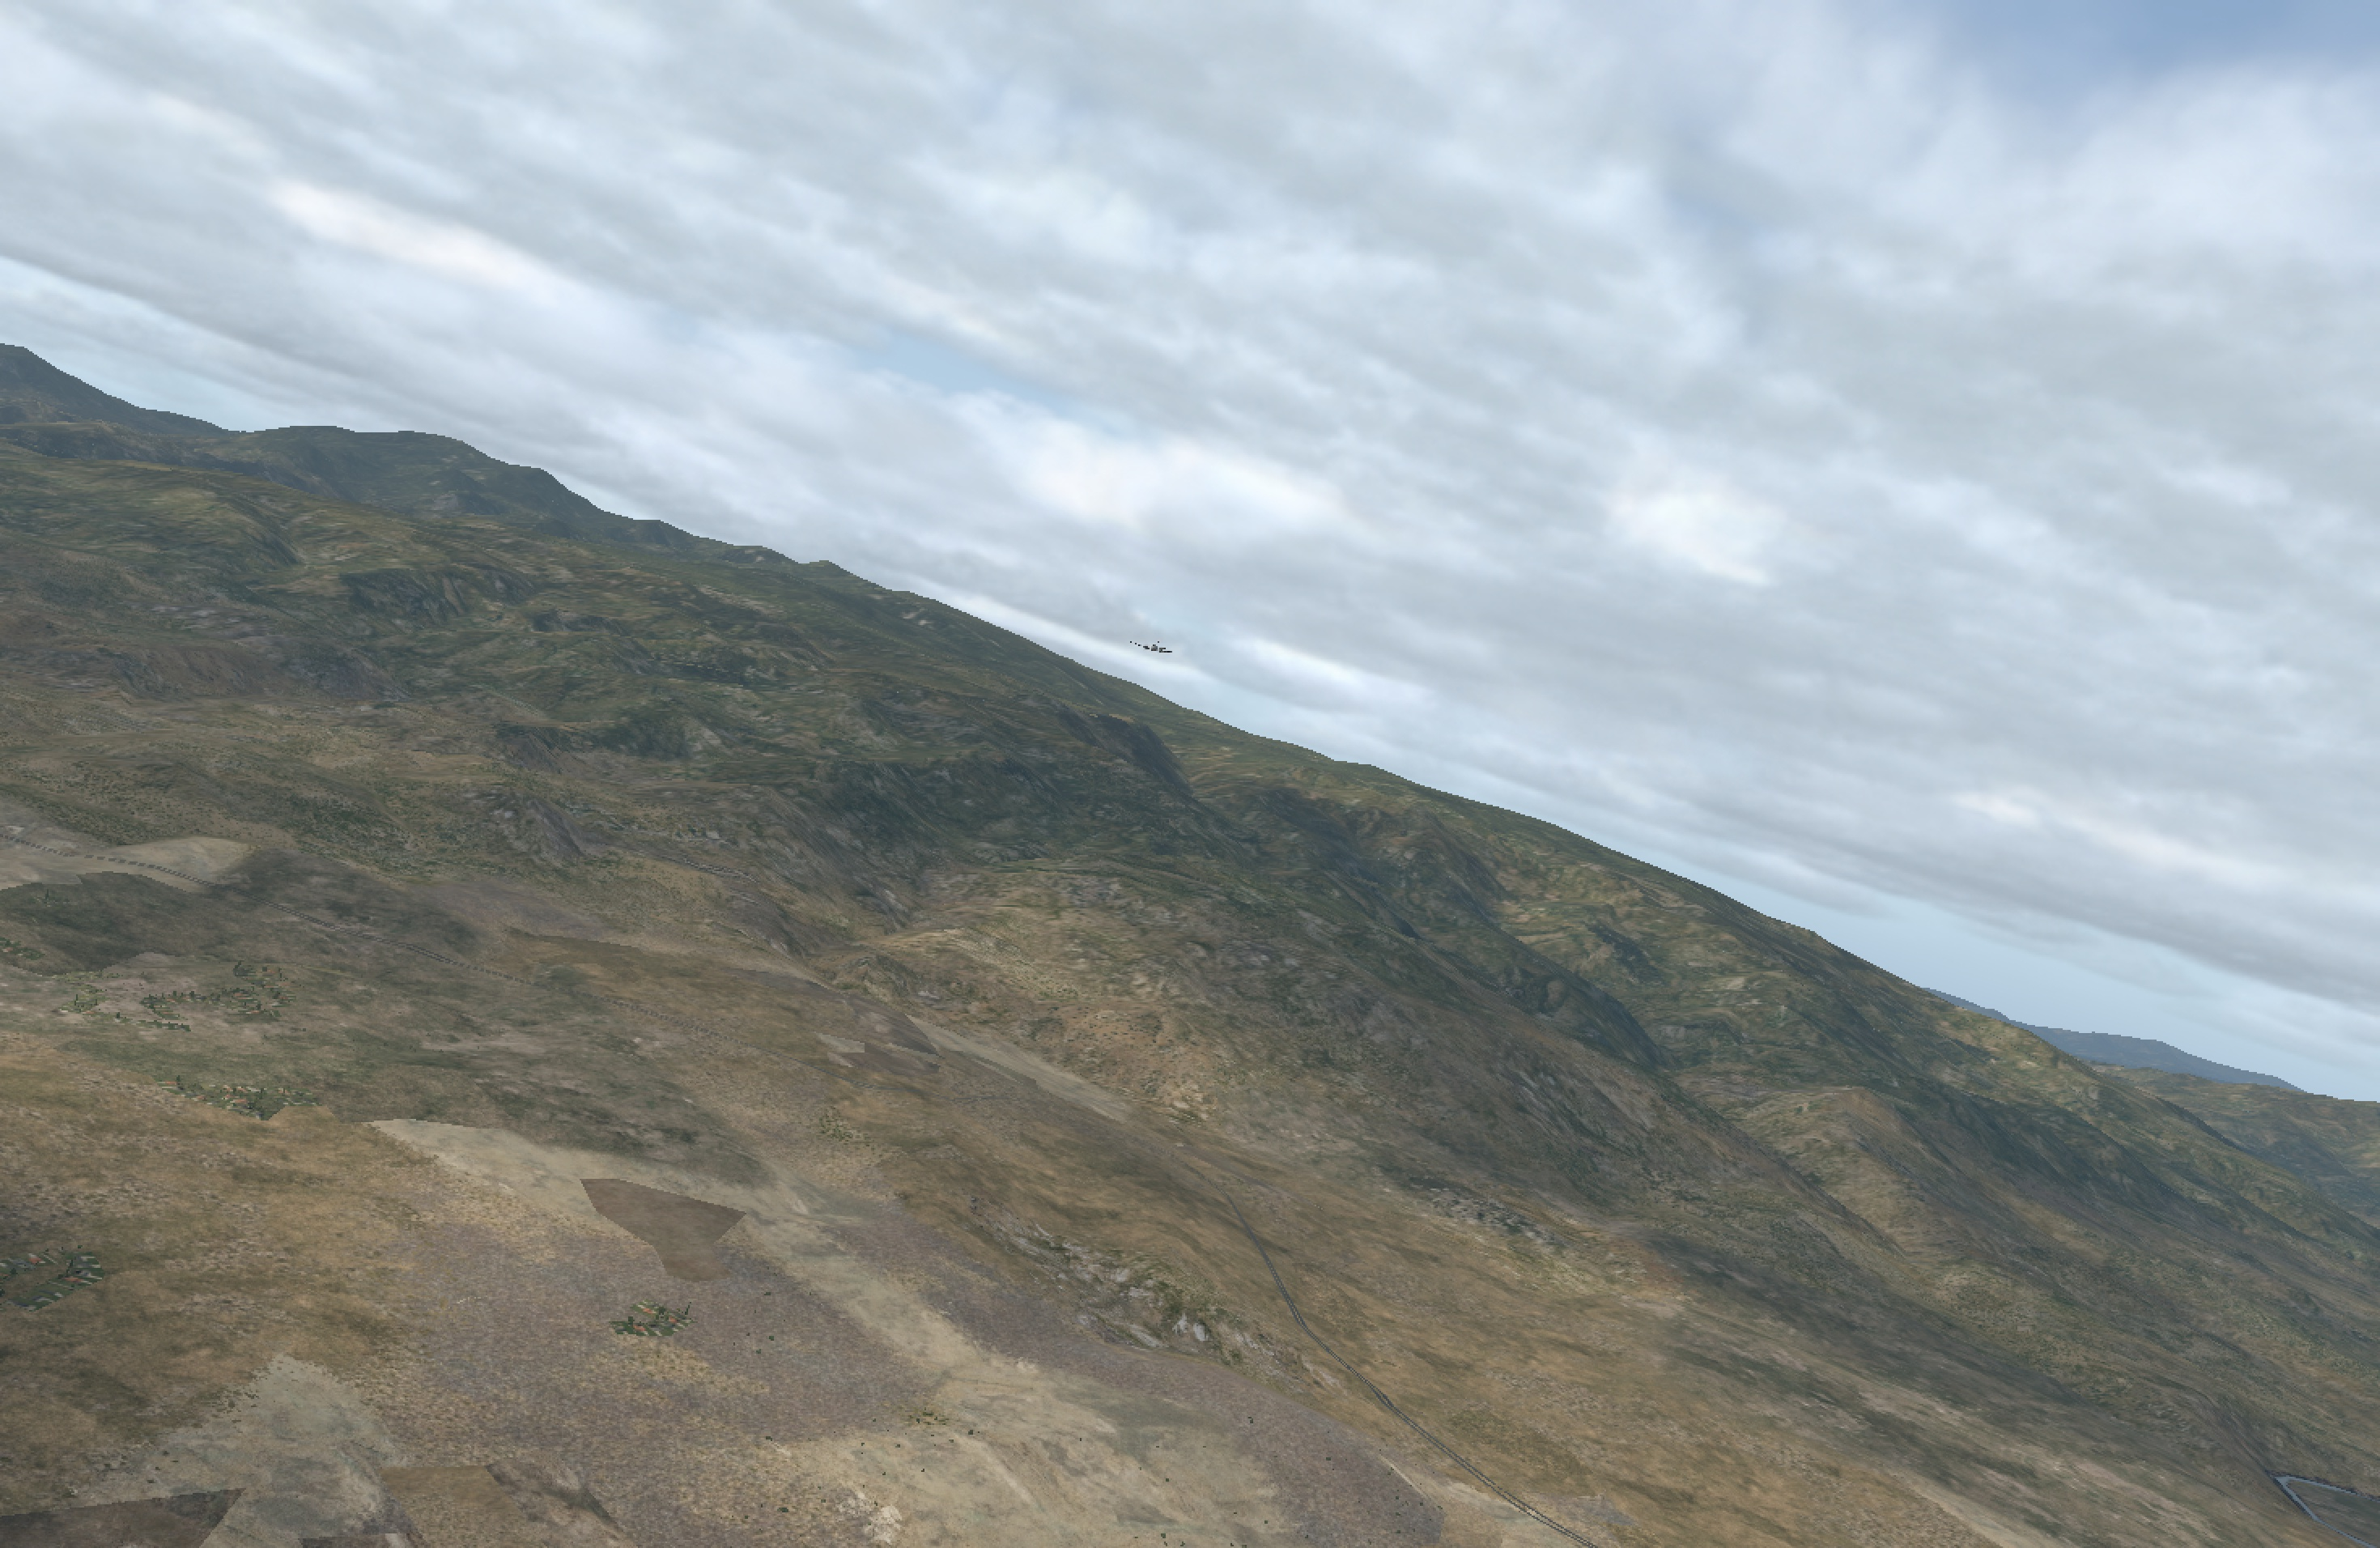aircraft: (1126, 640, 1181, 661)
